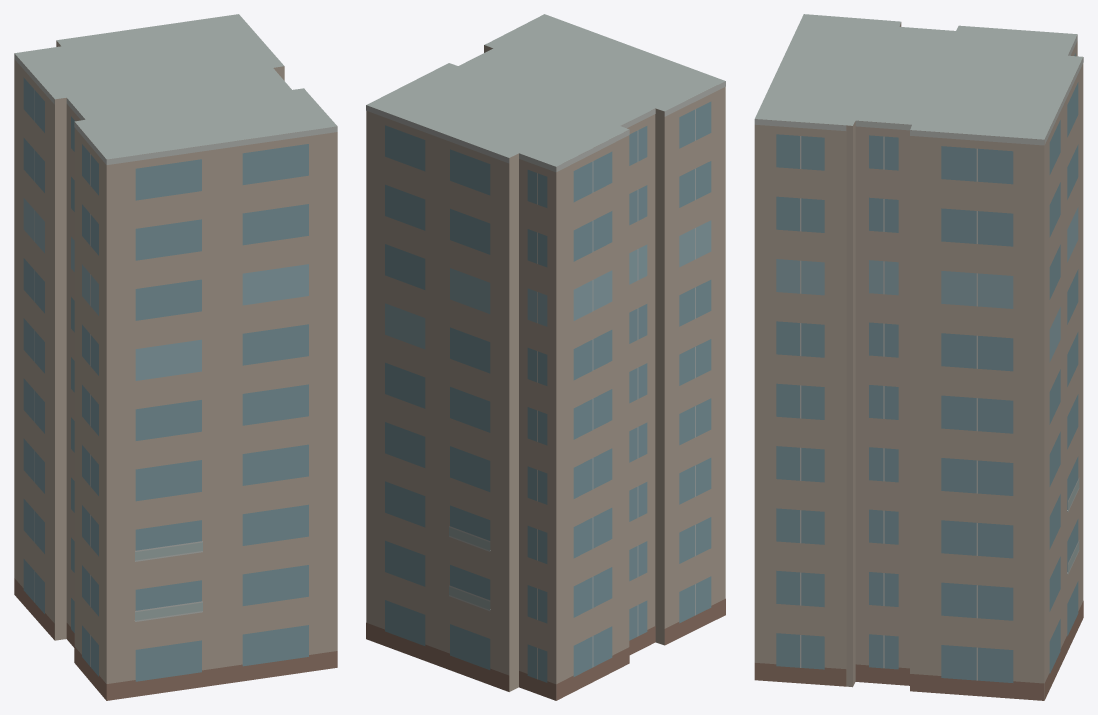
The model's file is survey-upis-33044456.glb.
3 renders of one model, left to right at view 1: azimuth 30°, elevation 25°; view 2: azimuth 150°, elevation 25°; view 3: azimuth 270°, elevation 25°, orthographic. The views are drawn at different scales.
Parts seen in each view (by area): view 1: survey-upis-33044456.tmp; view 2: survey-upis-33044456.tmp; view 3: survey-upis-33044456.tmp.
Boxes of the visible parts, <box> form: survey-upis-33044456.tmp: <box>14,14,337,700</box>; survey-upis-33044456.tmp: <box>366,14,725,700</box>; survey-upis-33044456.tmp: <box>754,14,1083,700</box>.
Bounding box in the file's own units: 11.25 × 23.4 × 12.43.
